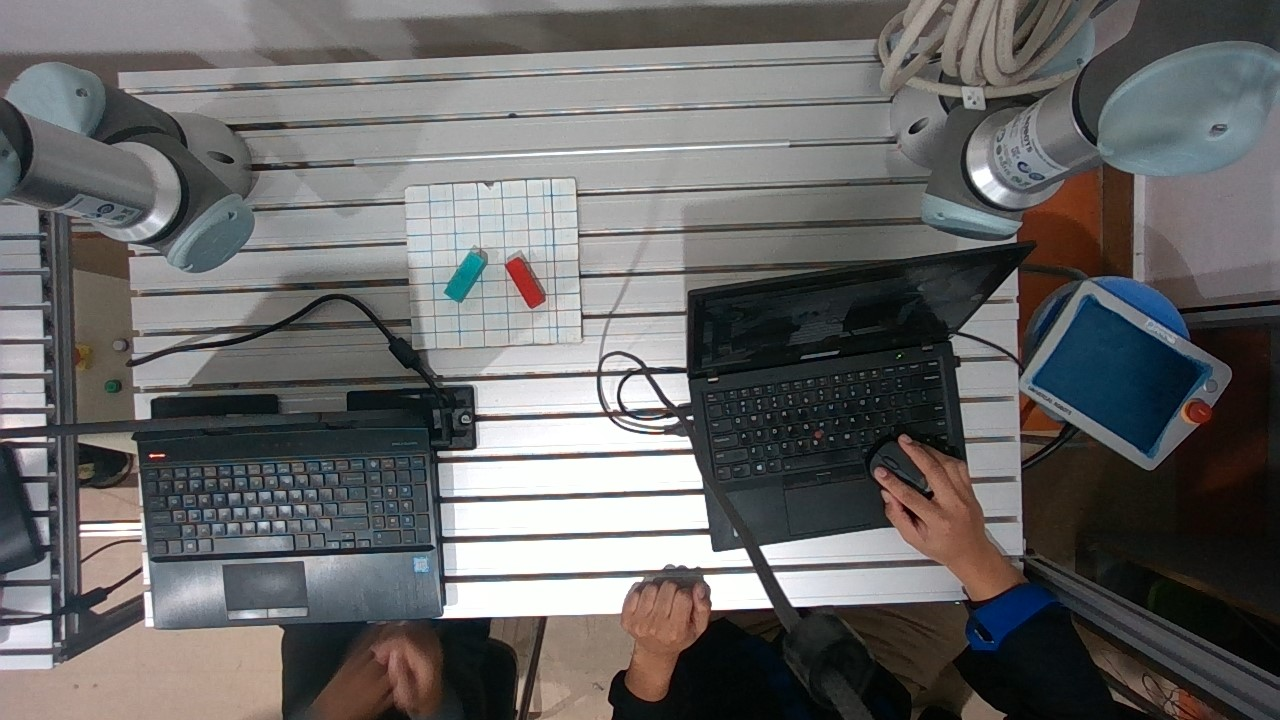box: (500, 249, 550, 316), (436, 241, 488, 305)
